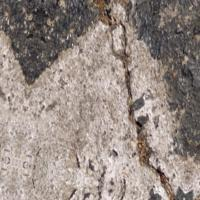crack: (63, 13, 174, 192)
